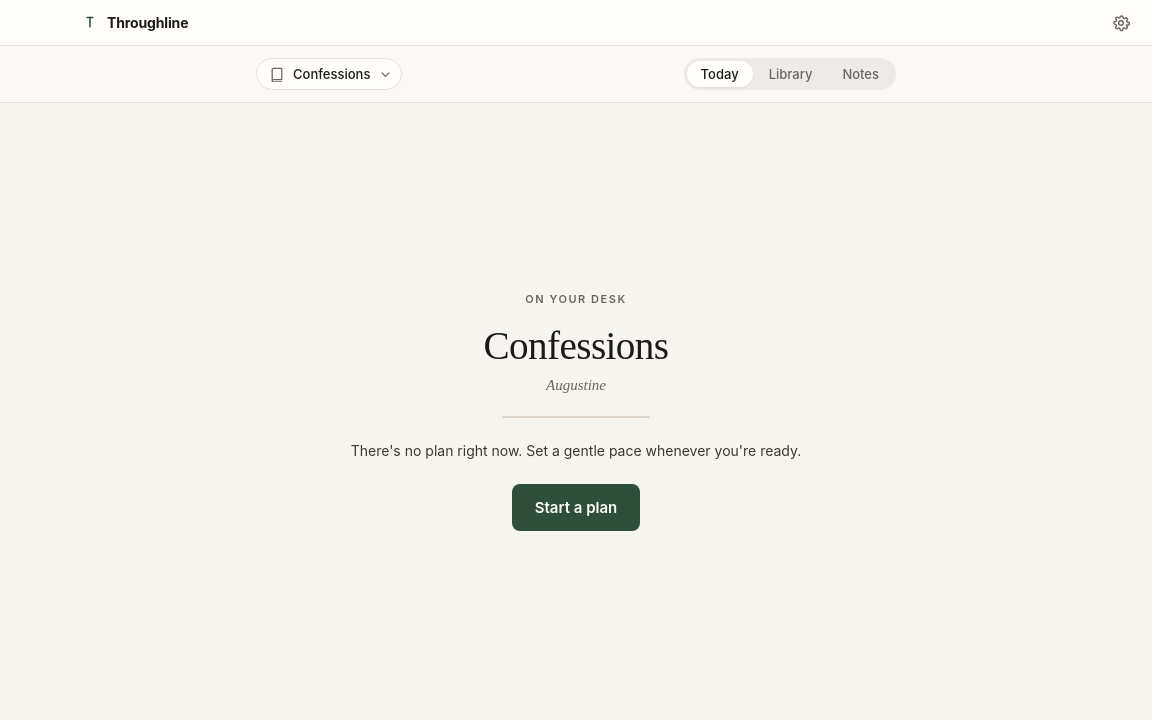
Test: App remove-from-library › requires a source-specific confirm and offers a brief undo (delete deferred)
The width and height of the screenshot is (1152, 720).
Click the button "Confessions".
click(329, 74)  # box [256,58,402,90]
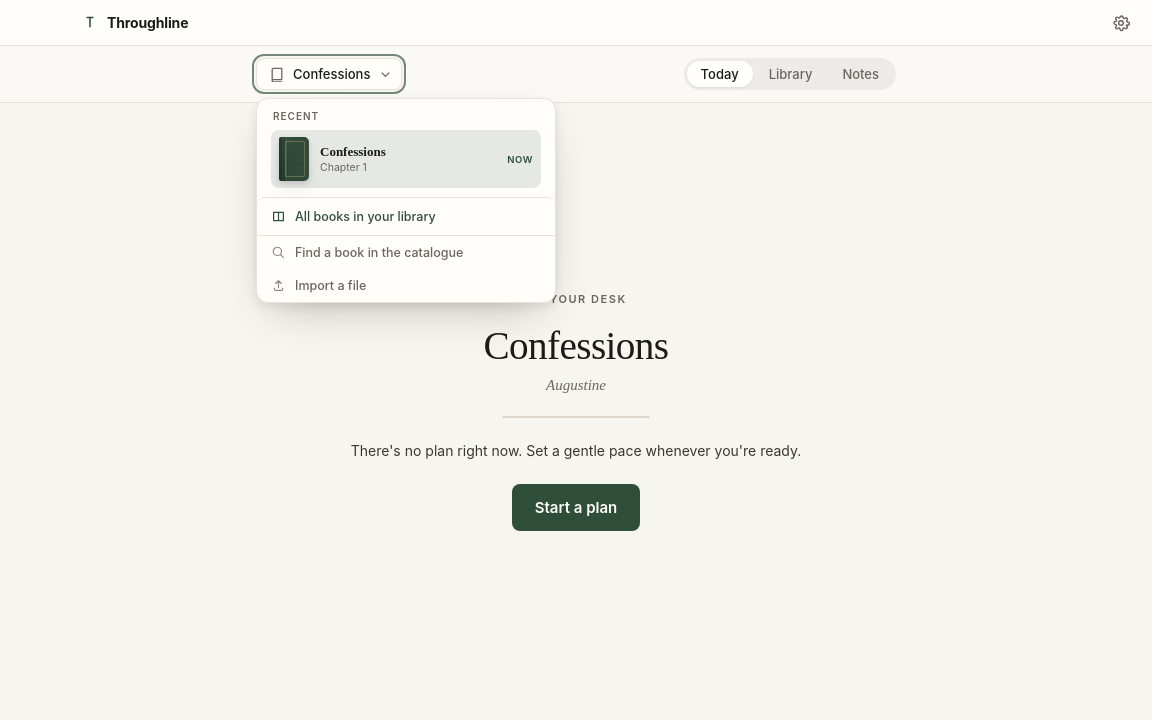
Right-click the button with aria-label "Confessions, Augustine, reading".
right_click(353, 152)  # box [271,130,541,188]
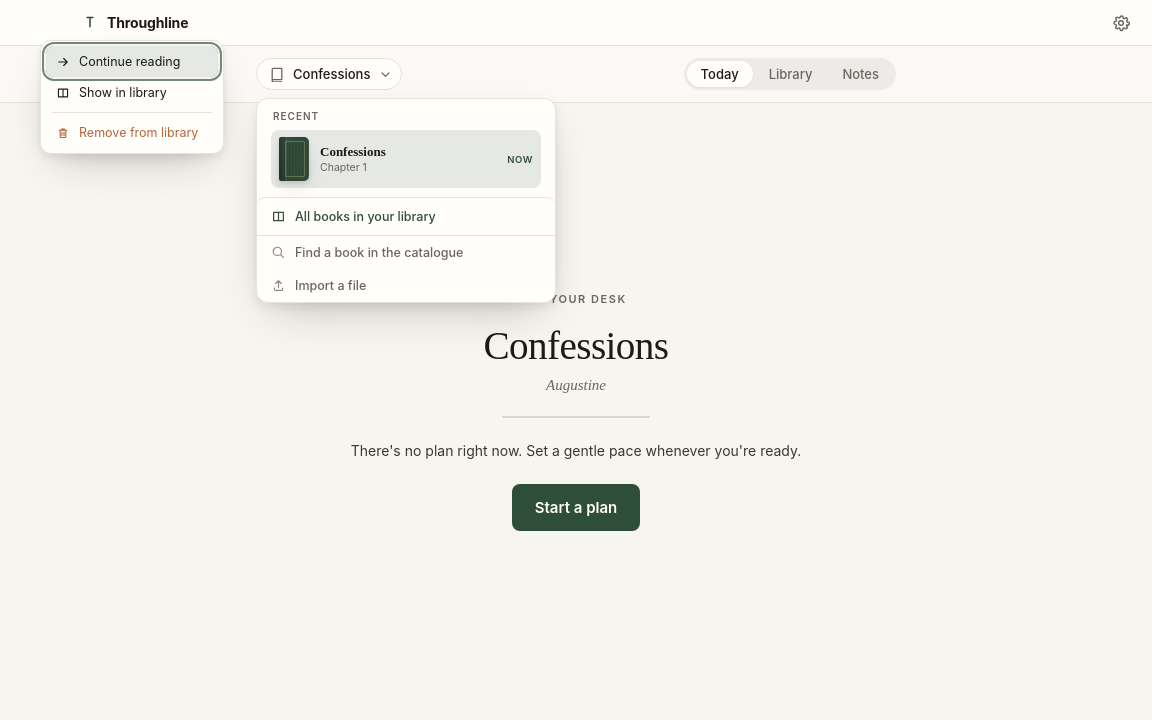
Click the menu item "Remove from library".
click(132, 132)  # box [46,117,218,148]
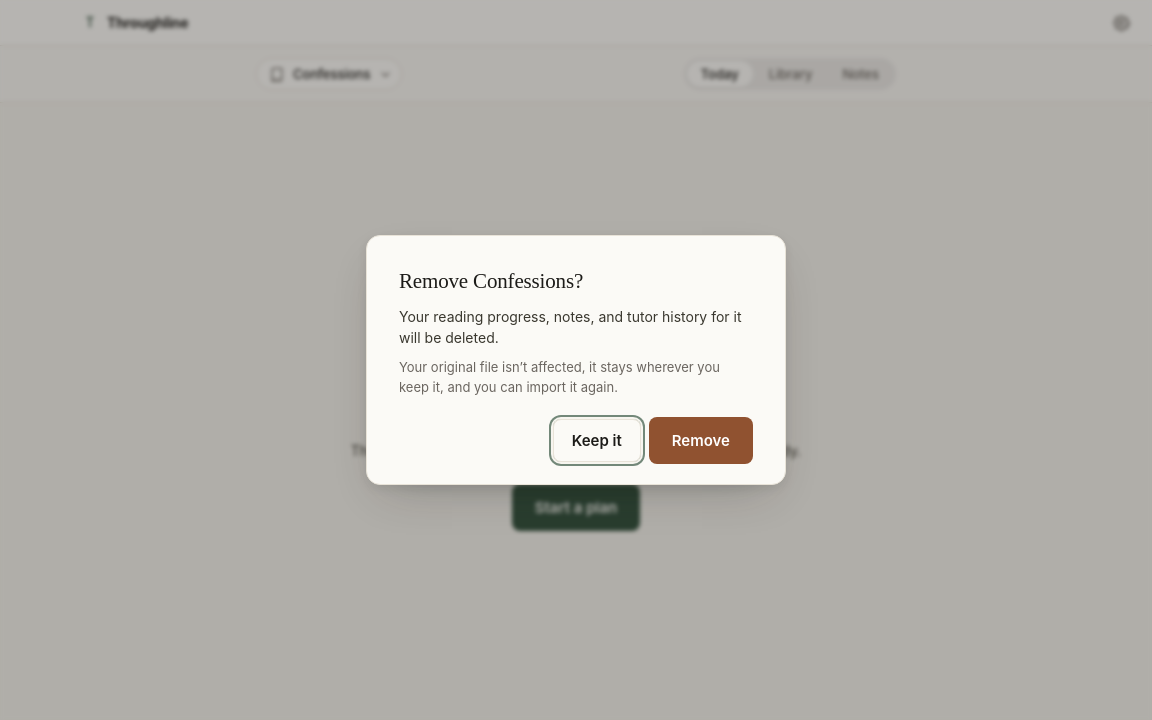
Check: the text "tutor history for it will be deleted" is shown, box [399,308,742,346]
Click the button "Remove".
click(701, 441)  # box [649,418,753,464]
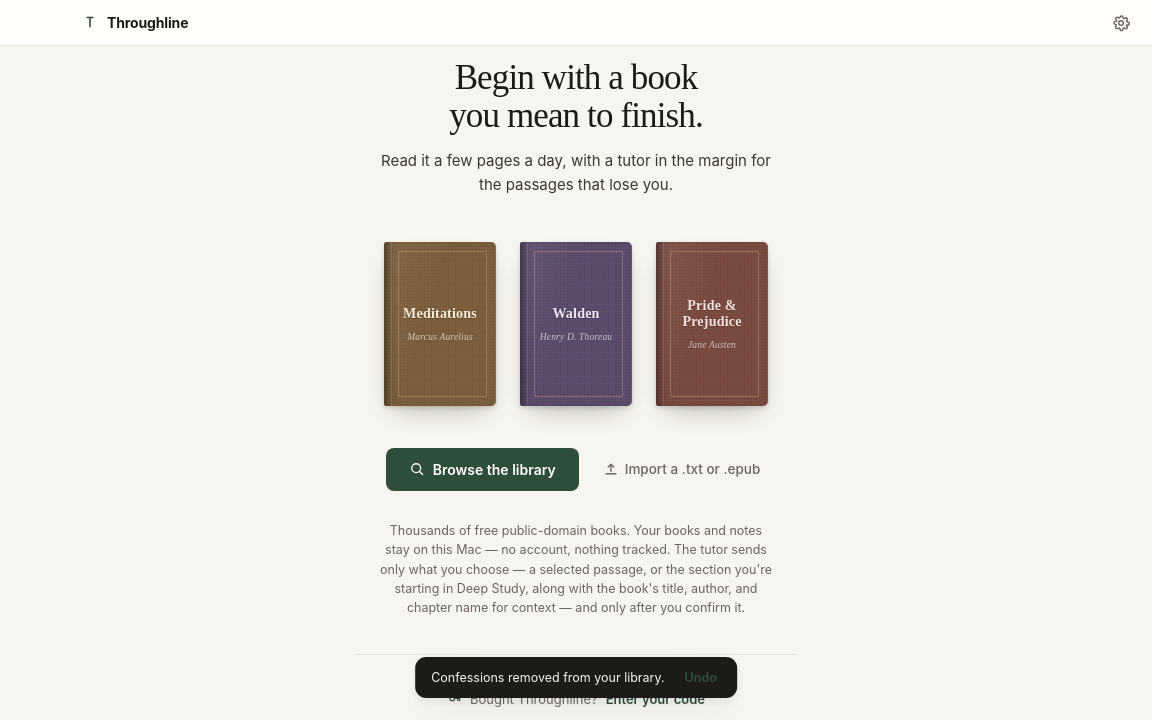
Check: the text "Confessions removed from your library." is shown, box [431,670,665,685]
